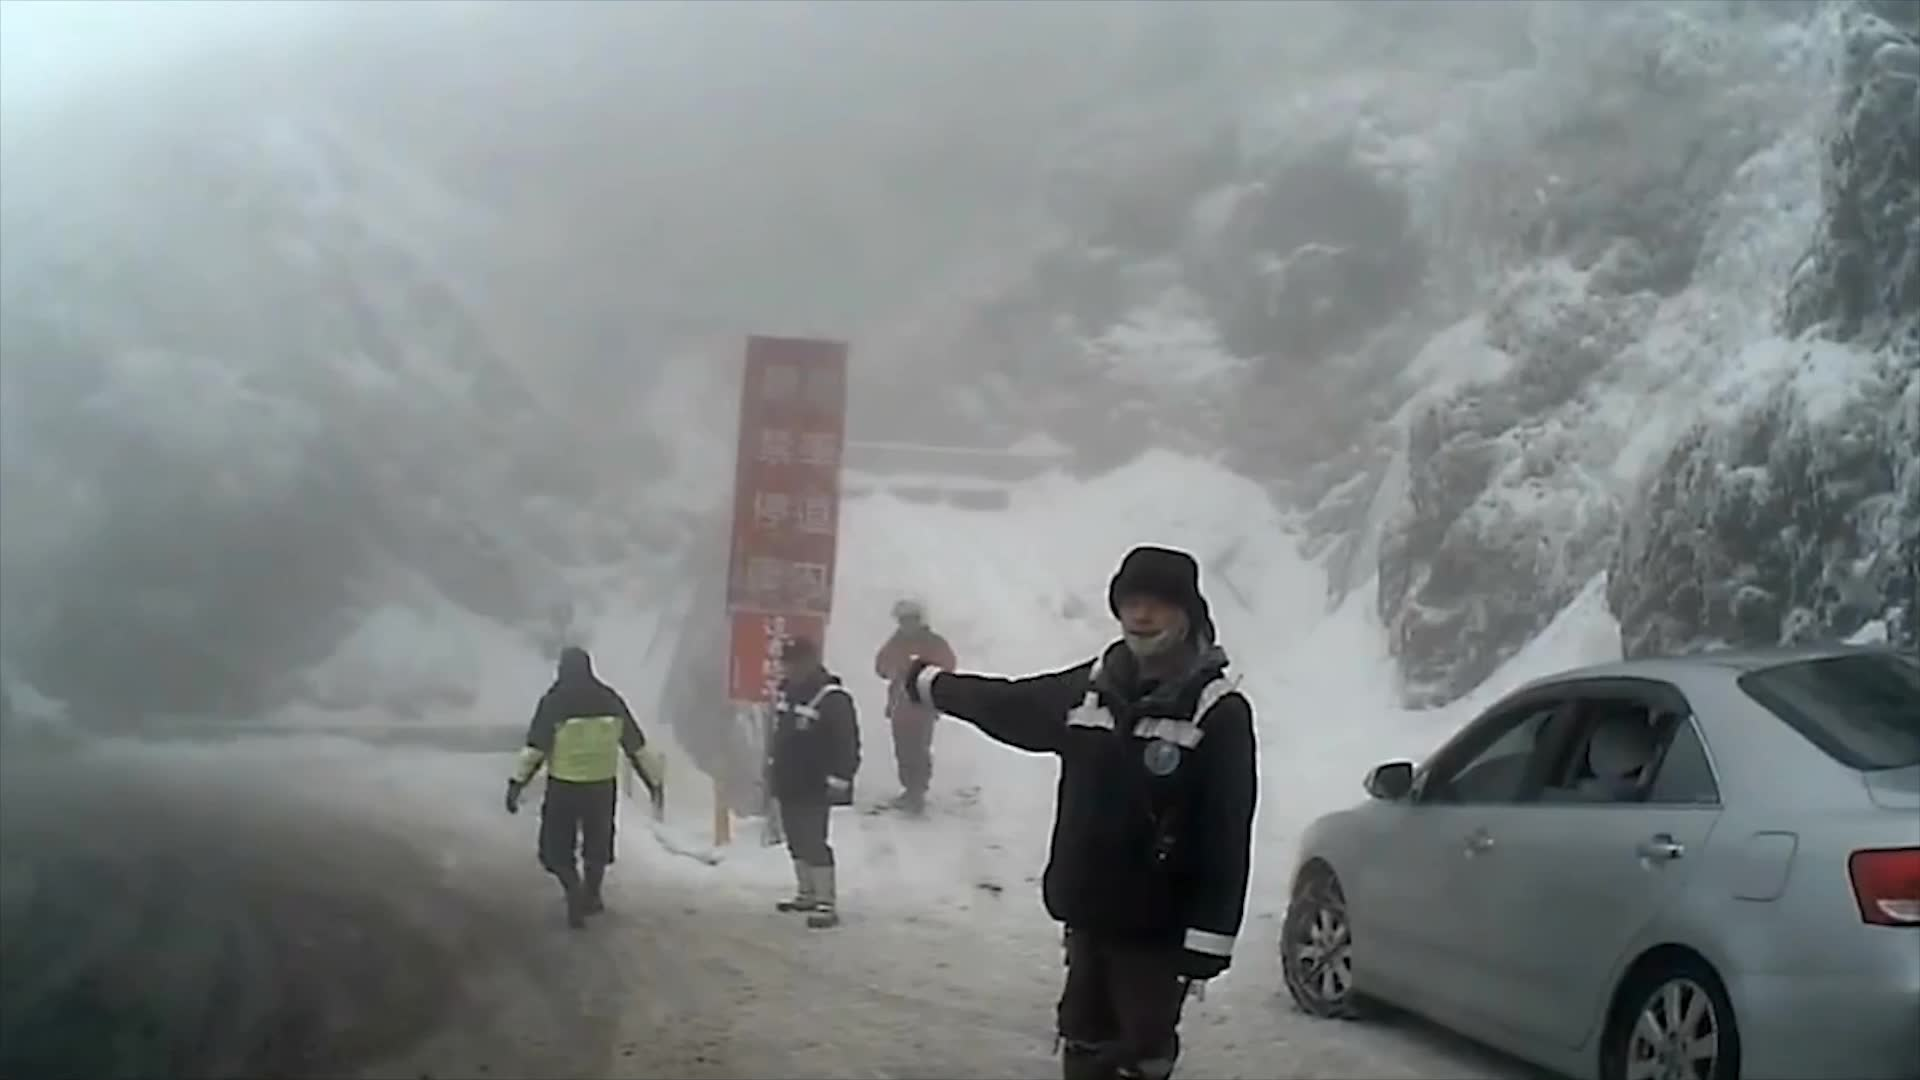pedestrian: (891, 546, 1252, 1080), (515, 648, 667, 922), (769, 632, 861, 926), (874, 594, 960, 821)
vehicle: (1276, 646, 1920, 1080)
